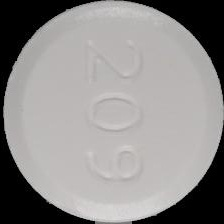63187-213: (0, 0, 224, 224)
